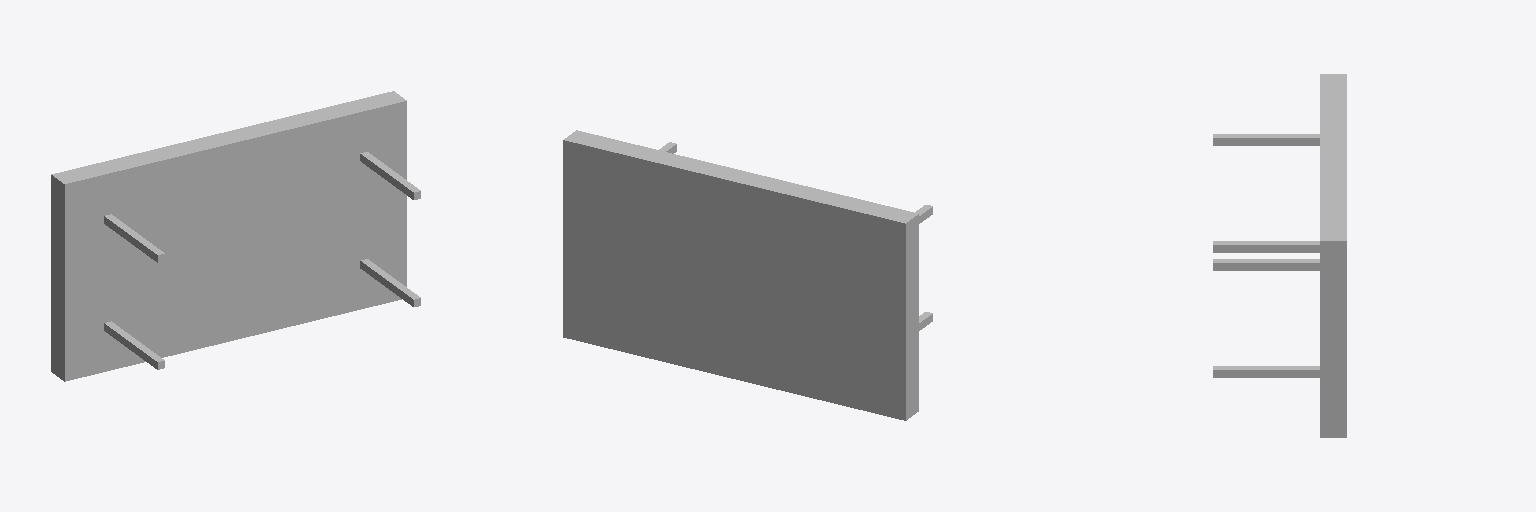
Rendered from random_table65.obj.
The picture shows the model from 3 angles: view 1: azimuth 30°, elevation 25°; view 2: azimuth 150°, elevation 25°; view 3: azimuth 270°, elevation 25°; orthographic projection.
Parts seen in each view (by area): view 1: Table_Cube.1390, TableLeg1_Cube.1392, TableLeg0_Cube.1391, TableLeg2_Cube.1393, TableLeg3_Cube.1394; view 2: Table_Cube.1390; view 3: Table_Cube.1390, TableLeg0_Cube.1391, TableLeg1_Cube.1392, TableLeg2_Cube.1393, TableLeg3_Cube.1394.
Part boxes in pixels (x1,y1,x2,y2): Table_Cube.1390: (51,91,406,381); TableLeg1_Cube.1392: (104,214,164,262); TableLeg0_Cube.1391: (360,152,420,199); TableLeg2_Cube.1393: (360,259,420,306); TableLeg3_Cube.1394: (104,321,164,369); Table_Cube.1390: (563,130,918,420); Table_Cube.1390: (1320,74,1346,437); TableLeg0_Cube.1391: (1213,259,1319,270); TableLeg1_Cube.1392: (1213,134,1319,145); TableLeg2_Cube.1393: (1213,366,1319,377); TableLeg3_Cube.1394: (1213,241,1319,252).
Size of the model in its own units: 7.96 by 4.38 by 2.7.